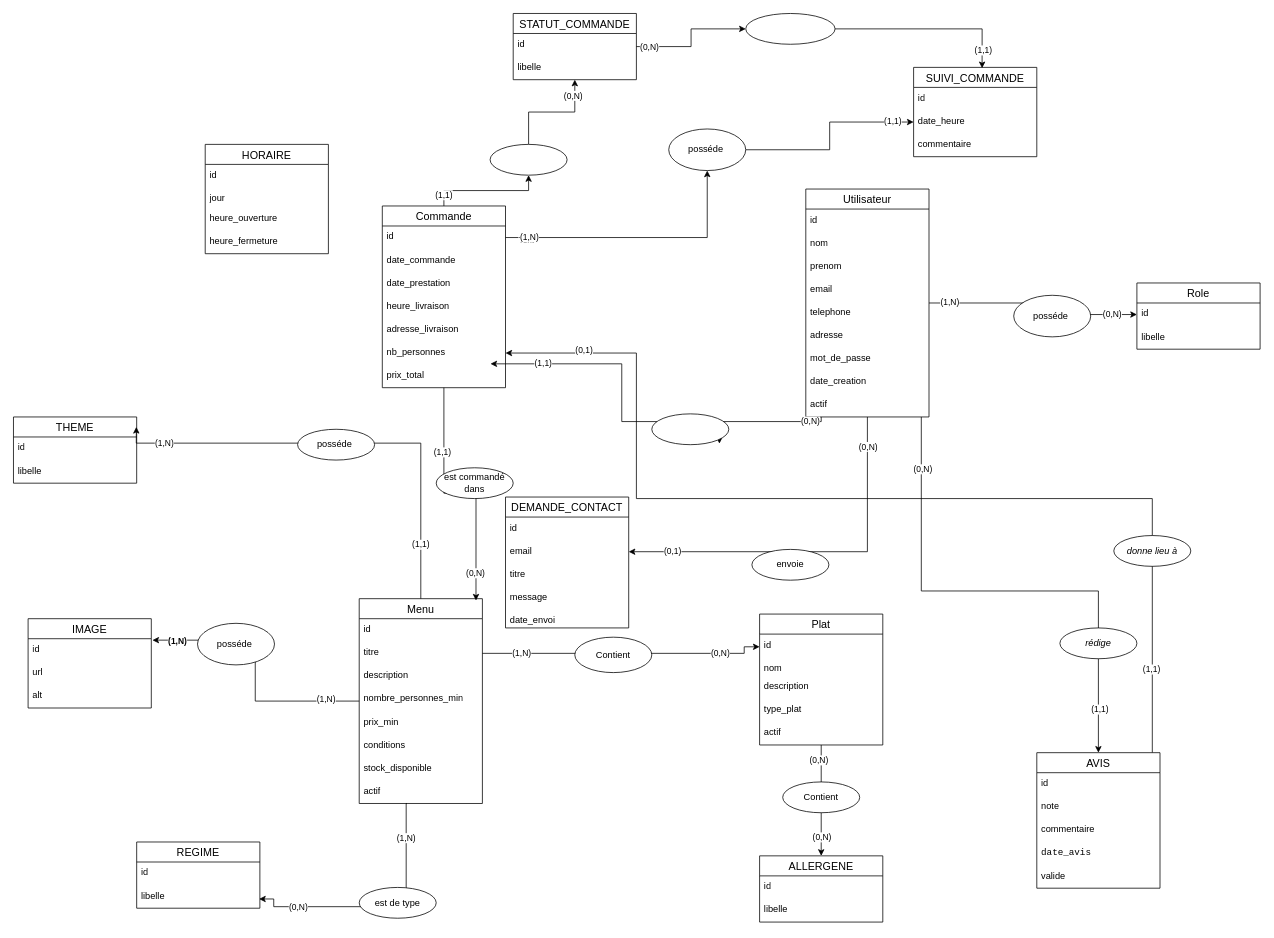
The diagram is 1274 pixels wide and 938 high, and some of its shapes have lost their labels. Here are the shapes that lost their labels. From the top down, the centre of each, then its label:
At [790,28]: "est enregistré dans".
At [528,159]: "est le statut de".
At [690,429]: "passe".
